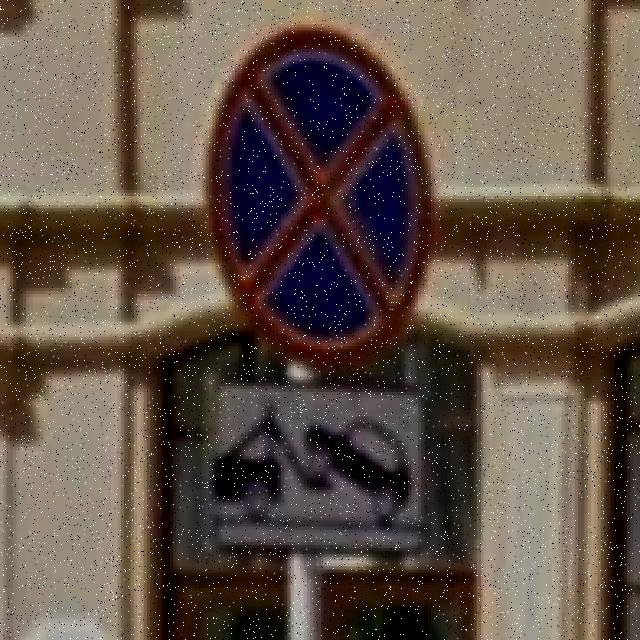Zakaz zatrzymywania sie: (205, 28, 438, 368)
